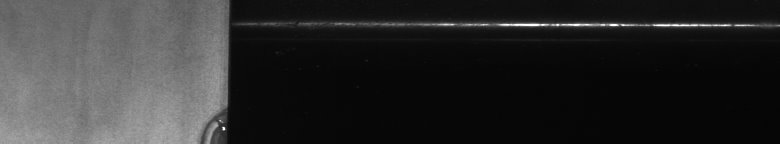hb: (192, 108, 216, 136)
